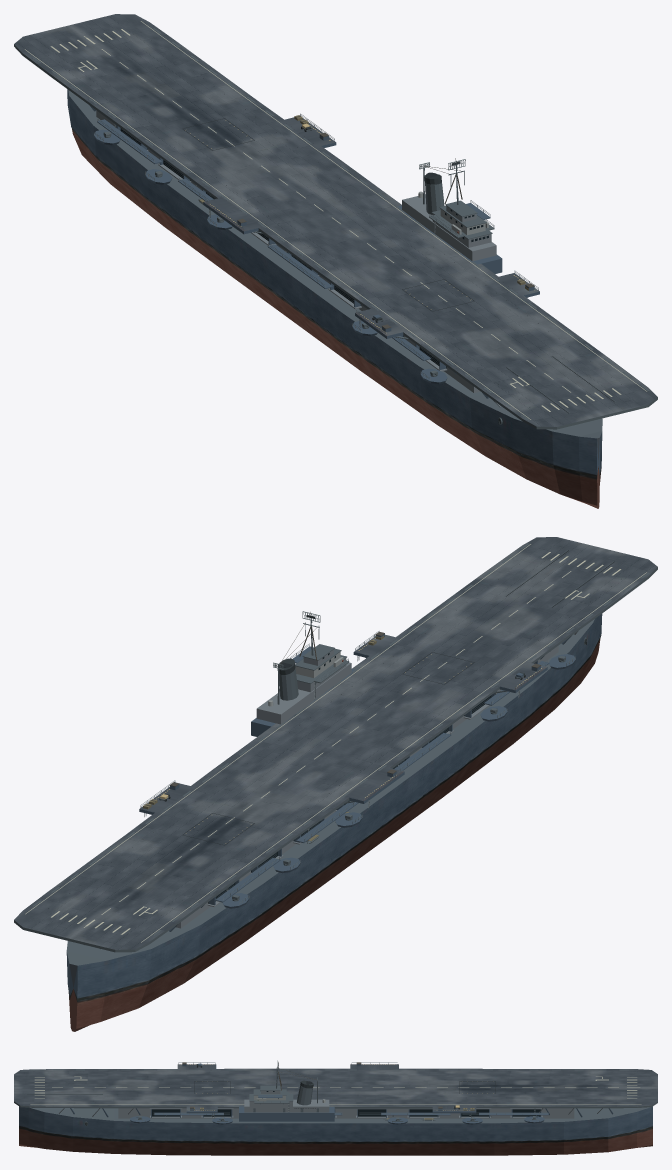
The model's file is uss_midway.glb.
3 renders of one model, top to bottom at view 1: azimuth 30°, elevation 25°; view 2: azimuth 150°, elevation 25°; view 3: azimuth 270°, elevation 25°, orthographic. The views are drawn at different scales.
Visible parts, largest first — view 1: deckPaint, hullPaint, surface-detail-deckPaint, deck, surface-detail-blue, surface-detail-shade, shade, steel, surface-detail-pale, surface-detail-steel; view 2: deckPaint, hullPaint, deck, surface-detail-deckPaint, surface-detail-blue, surface-detail-shade, shade, steel, surface-detail-pale; view 3: deckPaint, hullPaint, deck, steel, surface-detail-blue, shade, surface-detail-deckPaint, surface-detail-shade, surface-detail-pale, blue, surface-detail-steel, surface-detail-window (+1 smaller).
Part boxes in pixels (x1,y1,x2,y2): deckPaint: (14, 14, 657, 426); hullPaint: (67, 89, 602, 508); surface-detail-deckPaint: (183, 117, 539, 335); deck: (68, 90, 602, 438); surface-detail-blue: (90, 106, 539, 398); surface-detail-shade: (32, 28, 649, 424); shade: (14, 44, 657, 429); steel: (96, 110, 496, 392); surface-detail-pale: (25, 21, 646, 419); surface-detail-steel: (94, 114, 538, 406); deckPaint: (14, 537, 657, 949); hullPaint: (66, 614, 602, 1031); deck: (66, 619, 594, 965); surface-detail-deckPaint: (140, 634, 546, 844); surface-detail-blue: (139, 634, 575, 931); surface-detail-shade: (32, 543, 649, 935); shade: (14, 567, 657, 952); steel: (176, 645, 558, 928); surface-detail-pale: (25, 544, 646, 942); deckPaint: (14, 1068, 657, 1106); hullPaint: (19, 1106, 652, 1155); deck: (30, 1106, 652, 1123); steel: (118, 1090, 574, 1118); surface-detail-blue: (70, 1063, 613, 1124); shade: (14, 1085, 657, 1108); surface-detail-deckPaint: (177, 1064, 495, 1111); surface-detail-shade: (27, 1062, 628, 1125); surface-detail-pale: (30, 1076, 641, 1104); blue: (239, 1105, 334, 1121); surface-detail-steel: (59, 1062, 602, 1122); surface-detail-window: (152, 1109, 540, 1116).
Bounding box in the file's own units: 34.38 × 33.64 × 185.
Materials: 28 (3 with a texture image).
